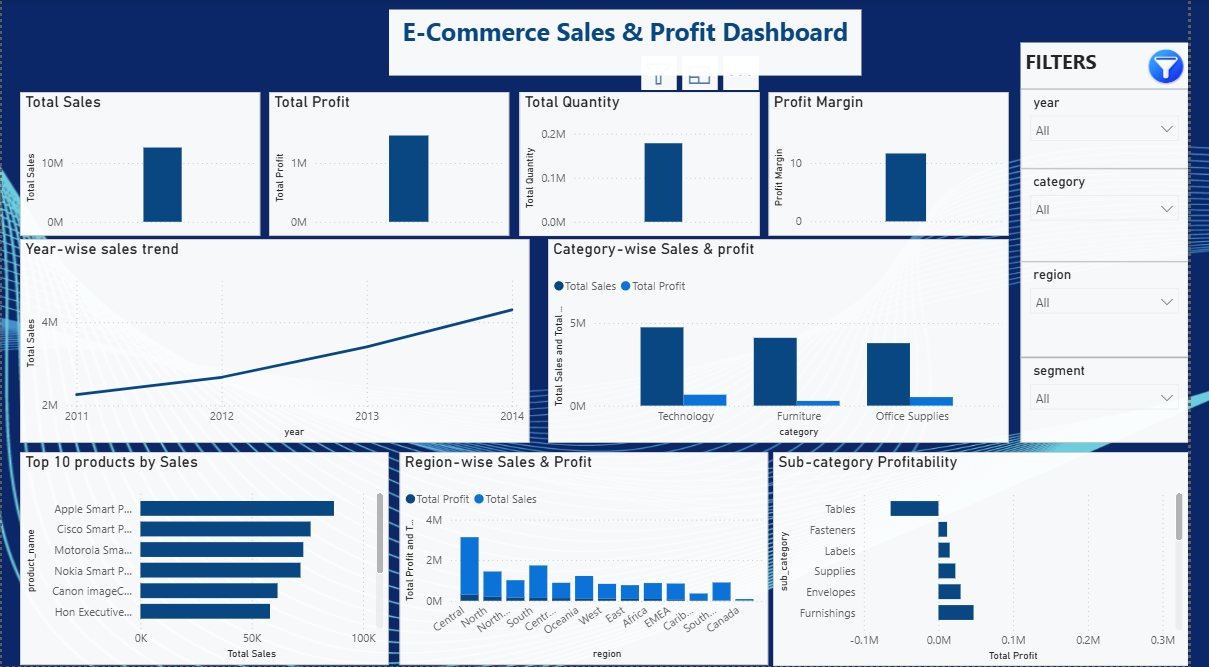

What the dashboard file says about the page in this screenshot:
{"tool":"powerbi","page":{"name":"Page 1","canvas":[1280,720],"ordinal":0},"visuals":[{"type":"clusteredColumnChart","fields":{"Y":["SuperStoreOrders.Total Sales"]},"box":[20,100,259.1,155.4],"z":0},{"type":"clusteredColumnChart","fields":{"Y":["SuperStoreOrders.Total Quantity"]},"box":[558.6,100.4,259,155.4],"z":1000},{"type":"clusteredColumnChart","fields":{"Y":["SuperStoreOrders.Total Profit"]},"box":[288.2,100.4,259.1,155.4],"z":2000},{"type":"clusteredColumnChart","fields":{"Y":["SuperStoreOrders.Profit Margin"]},"box":[827,100,259,155],"z":3000},{"type":"lineChart","title":"Year-wise sales trend","fields":{"Y":["SuperStoreOrders.Total Sales"],"Category":["SuperStoreOrders.year"]},"box":[19.4,259.1,550,220],"z":4000},{"type":"clusteredColumnChart","title":"Category-wise Sales & profit","fields":{"Category":["SuperStoreOrders.category"],"Y":["SuperStoreOrders.Total Sales","SuperStoreOrders.Total Profit"]},"box":[589.4,259.1,497.1,220.2],"z":5000},{"type":"barChart","title":"Top 10 products by Sales","fields":{"Category":["SuperStoreOrders.product_name"],"Y":["SuperStoreOrders.Total Sales"]},"box":[19.4,489,398.3,229.9],"z":6000},{"type":"columnChart","title":"Region-wise Sales & Profit","fields":{"Category":["SuperStoreOrders.region"],"Y":["SuperStoreOrders.Total Profit","SuperStoreOrders.Total Sales"]},"box":[429.1,489,398.3,229.9],"z":7000},{"type":"clusteredBarChart","title":"Sub-category Profitability","fields":{"Category":["SuperStoreOrders.sub_category"],"Y":["SuperStoreOrders.Total Profit"]},"box":[832.3,489,448.5,231.5],"z":8000},{"type":"textbox","box":[417.8,11.3,510.1,71.2],"z":9000},{"type":"slicer","fields":{"Values":["SuperStoreOrders.year"]},"box":[1099.5,97.2,181.4,85.8],"z":10000},{"type":"slicer","fields":{"Values":["SuperStoreOrders.category"]},"box":[1099.5,183,181.4,100.4],"z":11000},{"type":"slicer","fields":{"Values":["SuperStoreOrders.region"]},"box":[1099.5,283.4,181.4,103.6],"z":12000},{"type":"slicer","fields":{"Values":["SuperStoreOrders.segment"]},"box":[1099.5,387,181.4,92.3],"z":13000},{"type":"textbox","box":[1099.5,47,181.4,50.2],"z":14000},{"type":"image","box":[1232.2,51.8,48.6,42.1],"z":15000}]}

Visuals, with their boxes in screenshot pixels (x1, y1, x2, y2), scaled from the page's 1280x720 canvas onto the 1209x667 screenshot:
clusteredColumnChart - SuperStoreOrders.Total Sales: bbox=(19, 93, 264, 237)
clusteredColumnChart - SuperStoreOrders.Total Quantity: bbox=(528, 93, 772, 237)
clusteredColumnChart - SuperStoreOrders.Total Profit: bbox=(272, 93, 517, 237)
clusteredColumnChart - SuperStoreOrders.Profit Margin: bbox=(781, 93, 1026, 236)
"Year-wise sales trend" lineChart: bbox=(18, 240, 538, 444)
"Category-wise Sales & profit" clusteredColumnChart: bbox=(557, 240, 1026, 444)
"Top 10 products by Sales" barChart: bbox=(18, 453, 395, 666)
"Region-wise Sales & Profit" columnChart: bbox=(405, 453, 782, 666)
"Sub-category Profitability" clusteredBarChart: bbox=(786, 453, 1208, 666)
textbox: bbox=(395, 10, 876, 76)
slicer - SuperStoreOrders.year: bbox=(1039, 90, 1208, 170)
slicer - SuperStoreOrders.category: bbox=(1039, 170, 1208, 263)
slicer - SuperStoreOrders.region: bbox=(1039, 263, 1208, 359)
slicer - SuperStoreOrders.segment: bbox=(1039, 359, 1208, 444)
textbox: bbox=(1039, 44, 1208, 90)
image: bbox=(1164, 48, 1208, 87)
